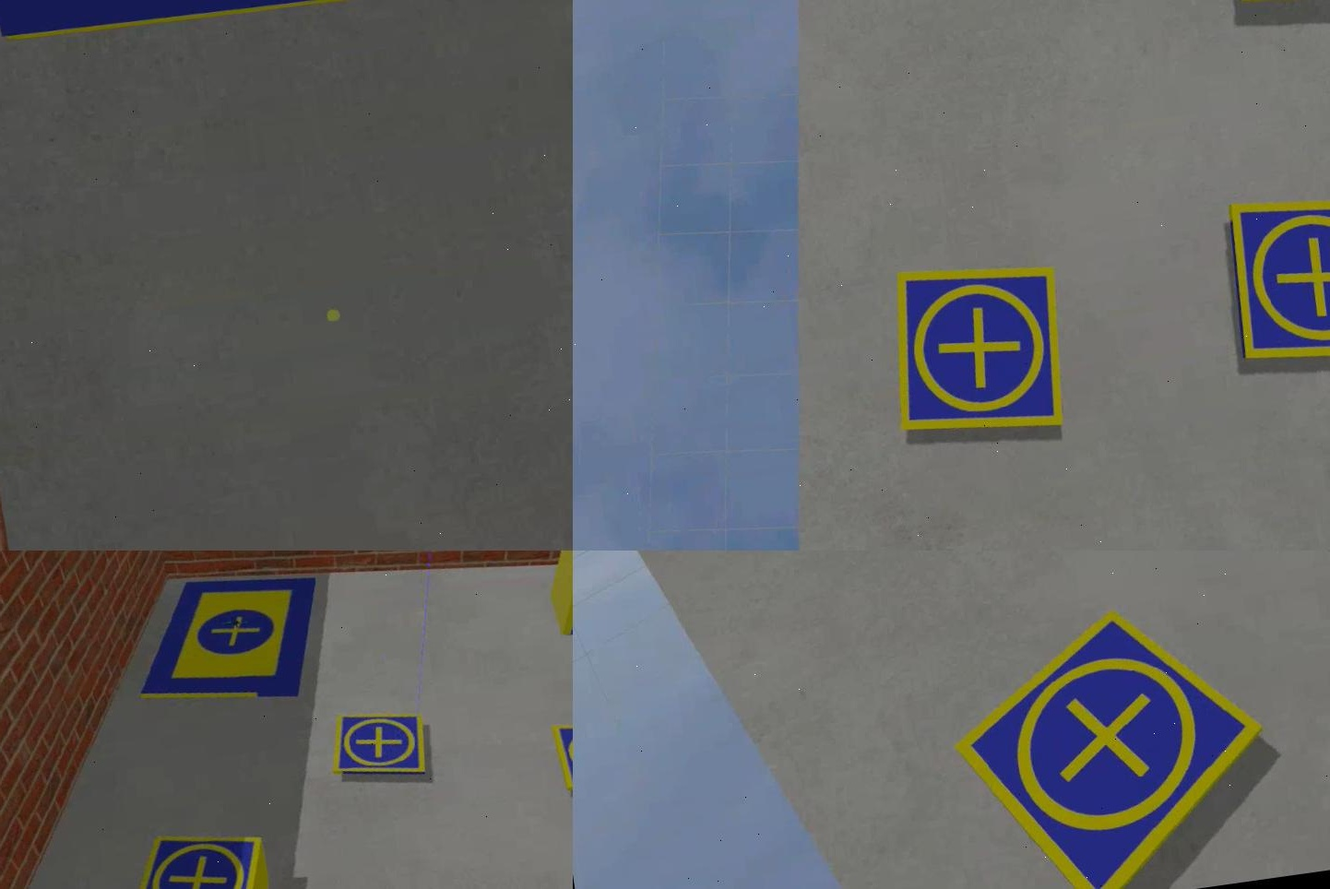large_base: (124, 564, 329, 720), (0, 1, 538, 45)
small_base: (939, 590, 1282, 889), (877, 251, 1076, 454), (1217, 183, 1328, 380), (114, 823, 273, 889), (328, 708, 435, 790)
